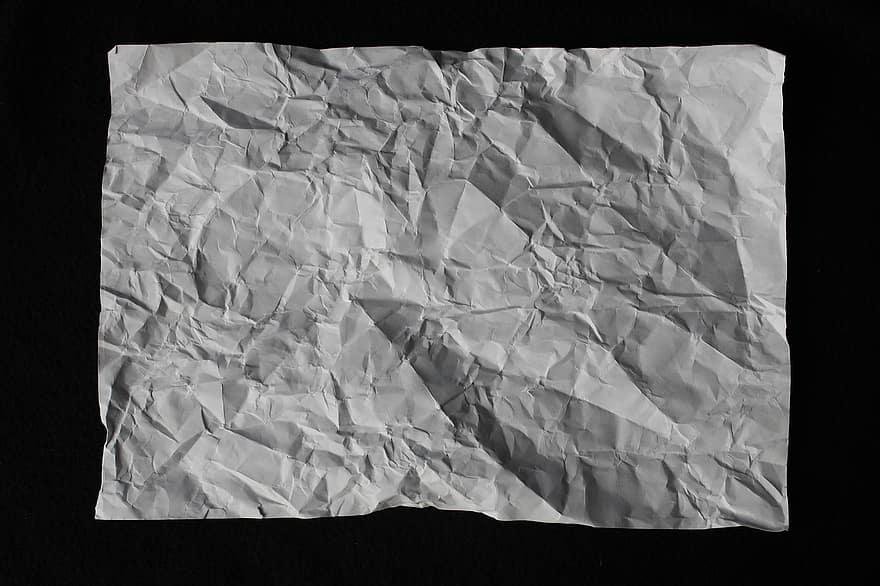paper: (68, 13, 823, 547)
